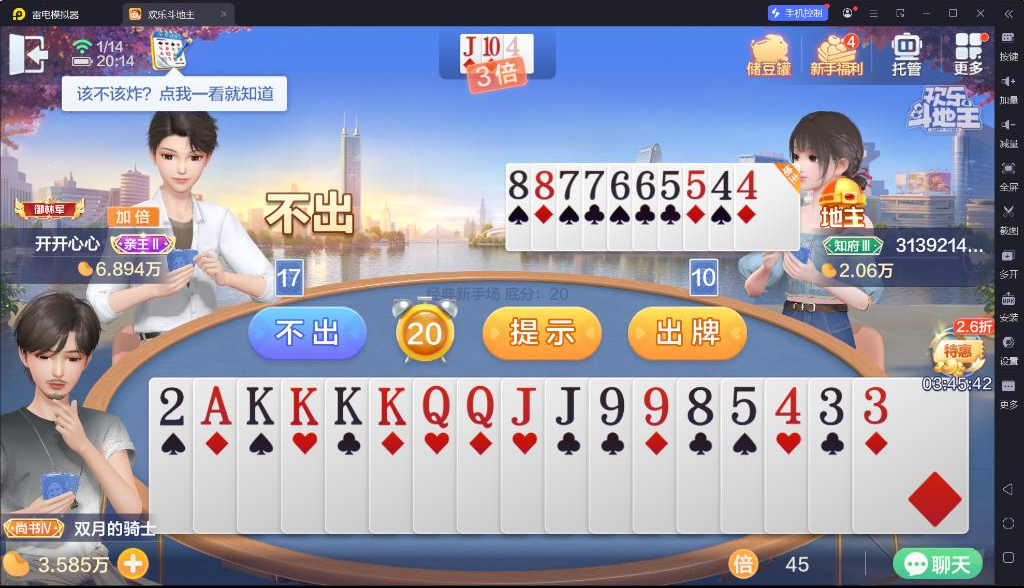A: (196, 384, 234, 427)
J: (505, 383, 540, 427), (552, 383, 582, 428), (461, 35, 478, 58)
K: (330, 383, 364, 429), (375, 383, 409, 427), (286, 384, 319, 428), (243, 384, 276, 427)
Q: (419, 383, 452, 431), (463, 382, 495, 430)
eight: (684, 383, 717, 428), (506, 168, 530, 200), (534, 168, 556, 200)
five: (727, 383, 759, 429), (659, 166, 682, 201), (685, 167, 707, 201)
four: (770, 382, 804, 426), (736, 168, 760, 202), (710, 167, 733, 201), (504, 35, 522, 58)
nine: (594, 382, 626, 428), (640, 381, 670, 427)
seven: (582, 166, 606, 201), (558, 165, 580, 200)
six: (609, 168, 632, 203), (634, 167, 656, 201)
ten: (482, 35, 501, 58)
three: (815, 383, 846, 428), (861, 383, 892, 427)
two: (155, 384, 187, 430)
